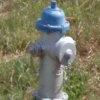Hydrant: (26, 5, 84, 100)
